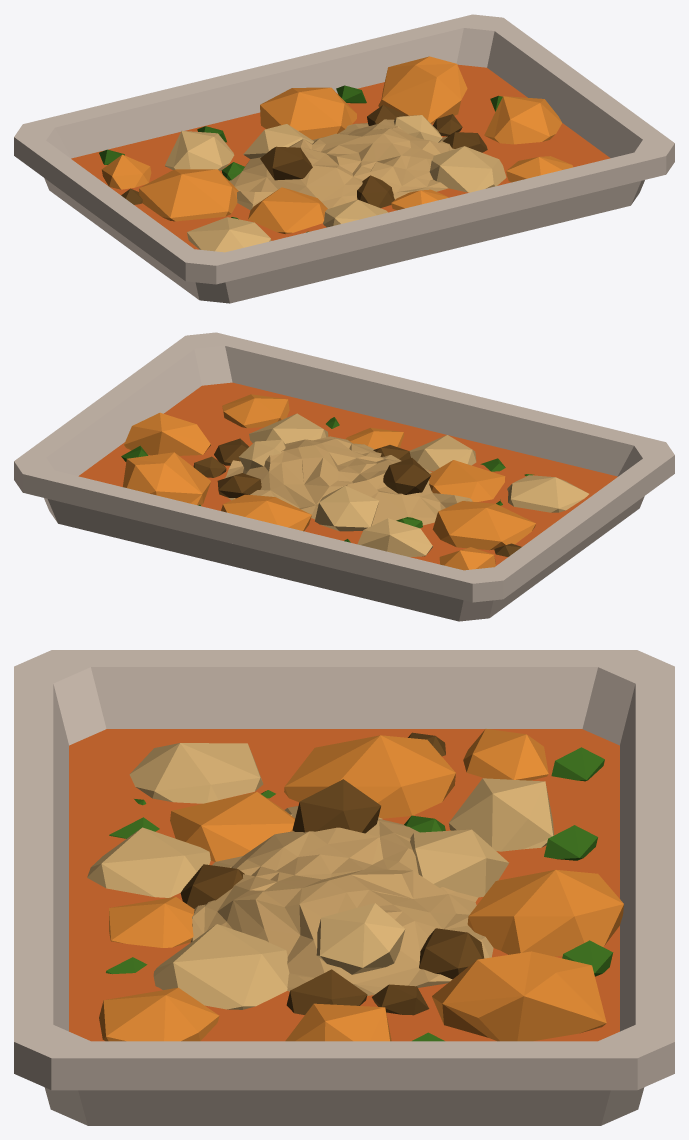
File: SM_Props_Food_09.fbx
3 views of the same model, one above another, from view 1: azimuth 30°, elevation 25°; view 2: azimuth 150°, elevation 25°; view 3: azimuth 270°, elevation 25° (orthographic). The views are drawn at different scales.
Visible parts, largest first — view 1: SM_Props_Food_09; view 2: SM_Props_Food_09; view 3: SM_Props_Food_09.
Boxes of the visible parts, x1,y1,x2,y2 form: SM_Props_Food_09: (14, 14, 674, 303); SM_Props_Food_09: (14, 332, 674, 621); SM_Props_Food_09: (14, 650, 674, 1125).
Bounding box in the file's own units: 0.266 × 0.0322 × 0.1821.
